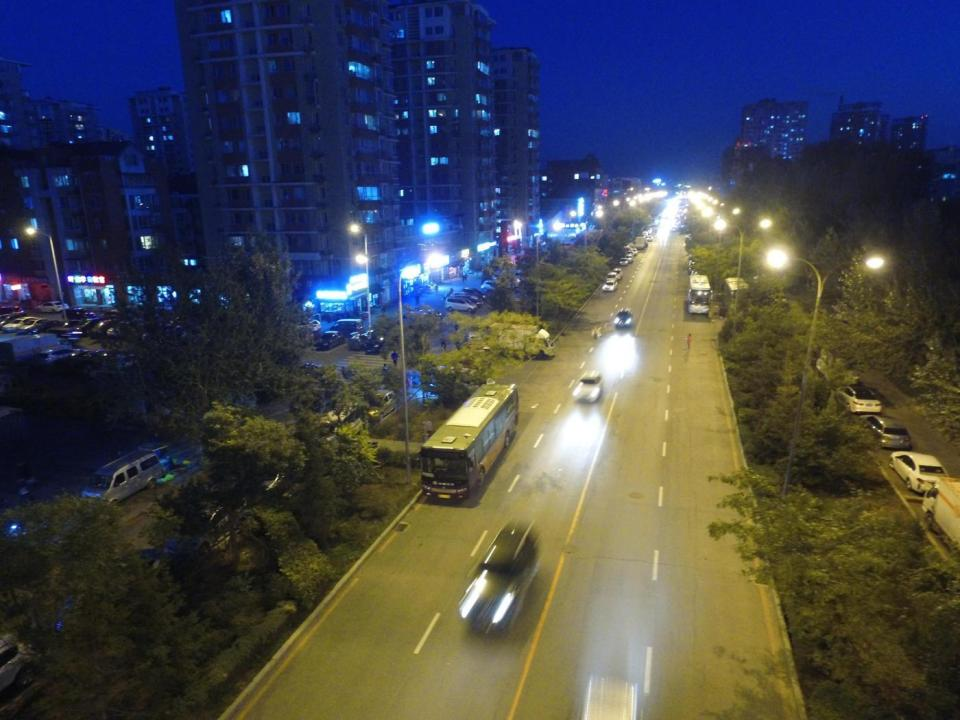bus: (420, 383, 518, 502), (721, 275, 751, 320), (686, 270, 712, 316)
car: (466, 522, 536, 635), (887, 446, 951, 496), (855, 413, 912, 451), (810, 350, 862, 386), (833, 381, 881, 415), (363, 388, 406, 420), (101, 350, 142, 378), (141, 322, 186, 345), (40, 346, 86, 368), (573, 376, 602, 404), (107, 319, 142, 341), (68, 316, 105, 336), (66, 348, 99, 368), (607, 305, 633, 330), (314, 331, 346, 351), (84, 349, 118, 367), (86, 319, 122, 336), (63, 305, 97, 321), (299, 361, 326, 381), (295, 327, 321, 346), (2, 317, 34, 332), (35, 299, 69, 313), (16, 318, 46, 333), (29, 317, 57, 333), (450, 291, 484, 304), (289, 318, 322, 331), (450, 296, 484, 307), (368, 331, 384, 354), (462, 286, 487, 300), (99, 309, 127, 321), (480, 279, 505, 292), (507, 269, 532, 281), (499, 274, 524, 286), (467, 332, 485, 348), (603, 278, 617, 293), (605, 271, 618, 282), (613, 268, 624, 281), (618, 257, 629, 268), (624, 252, 633, 264), (626, 249, 636, 258), (631, 249, 639, 256), (646, 236, 653, 241)
truck: (916, 475, 960, 549), (488, 320, 558, 360), (635, 233, 645, 250)
van: (82, 446, 166, 506), (428, 364, 496, 399), (330, 316, 363, 334), (446, 296, 479, 314), (0, 312, 28, 329)
